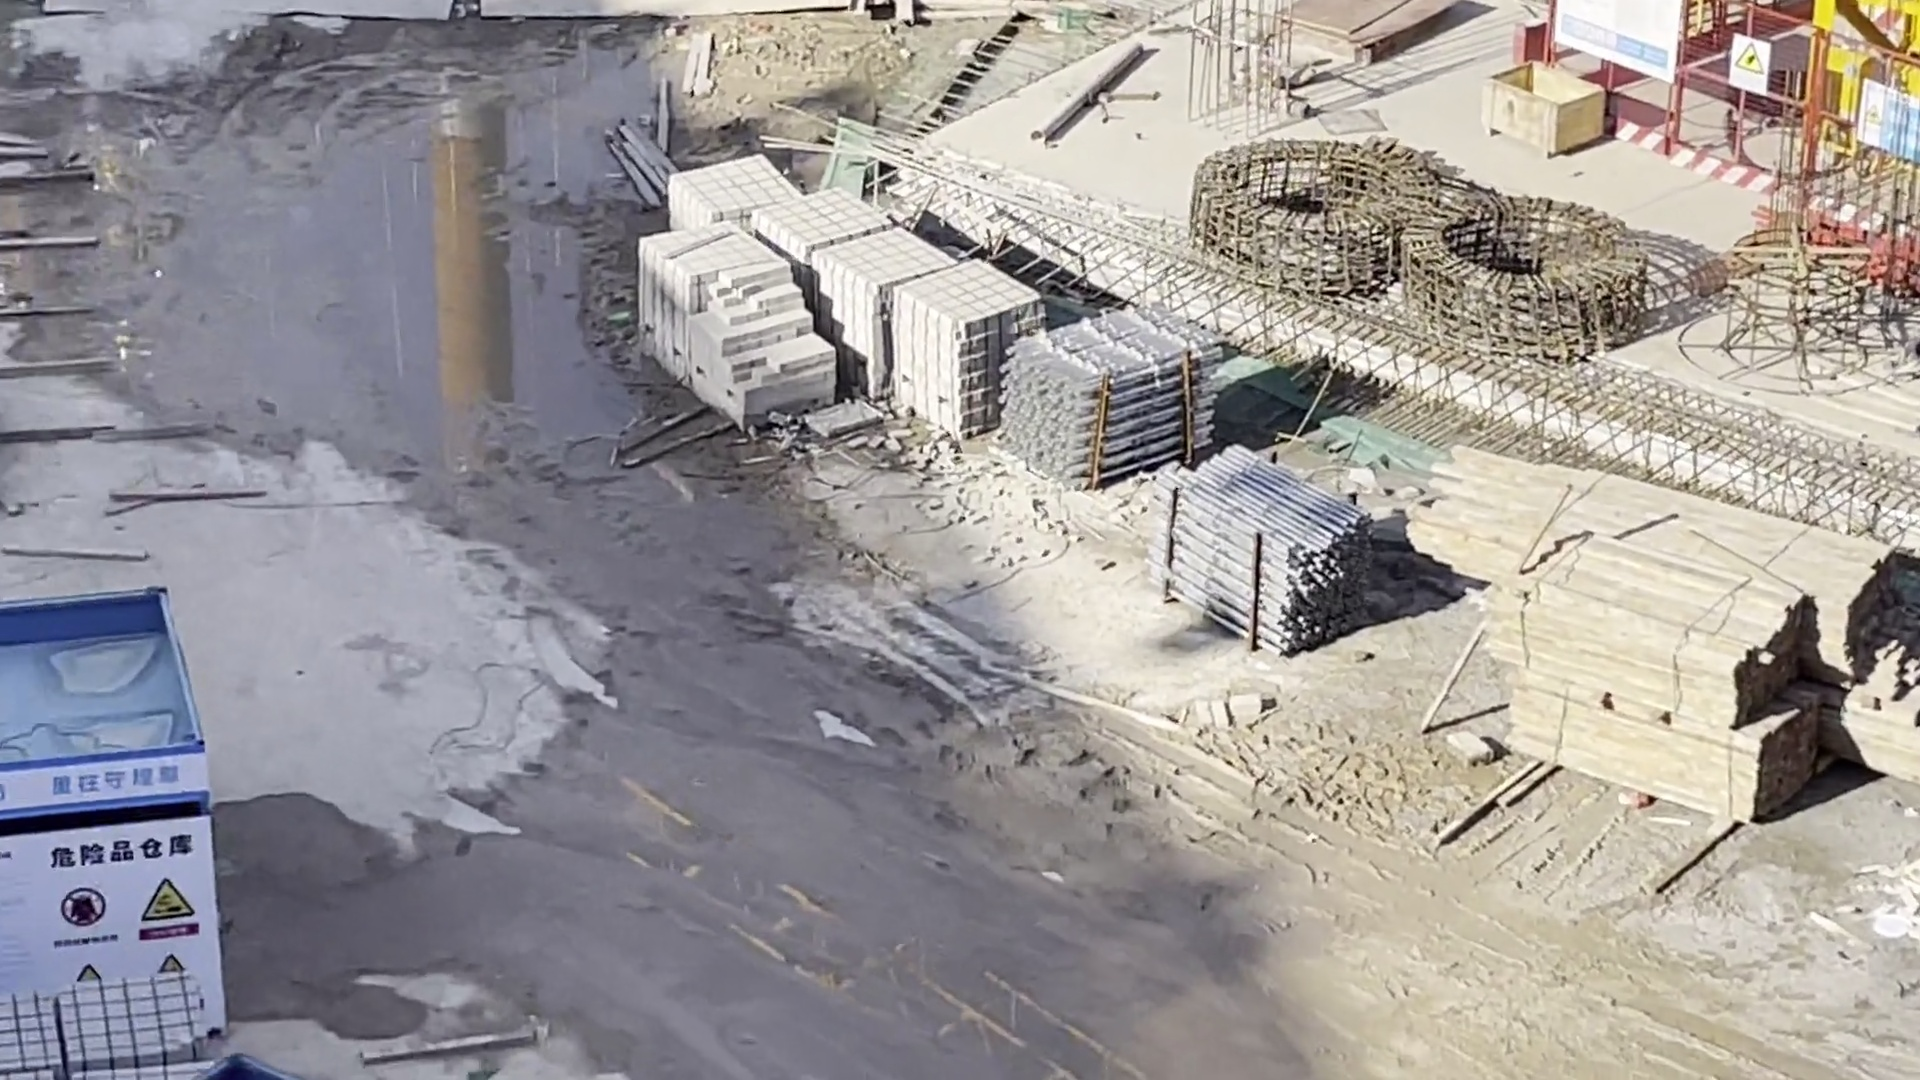board: (1273, 1, 1476, 69)
brick: (622, 148, 993, 429), (1, 927, 235, 1080)
scaffold: (1112, 442, 1371, 618), (998, 324, 1197, 473)
slogan: (30, 757, 200, 804)
wood: (1555, 458, 1888, 820)
